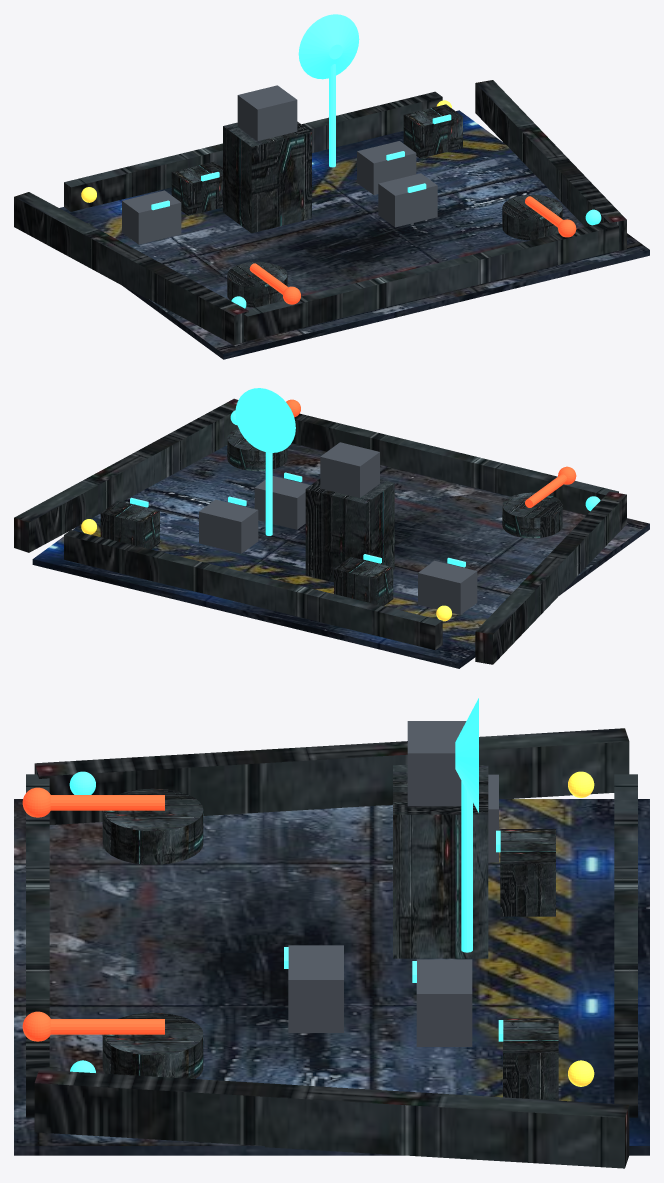
Rendered from arena_battle_deck_cluster.glb.
The picture shows the model from 3 angles, top to bottom: view 1: azimuth 30°, elevation 25°; view 2: azimuth 150°, elevation 25°; view 3: azimuth 270°, elevation 25°; orthographic projection. The views are drawn at different scales.
Visible parts, largest first — view 1: DeckClusterBase_PhotoDeck, ForwardServiceRail_Textured, LeftArmoredEdge_Textured, ServiceTowerLower_Textured, RearServiceRail_Textured, RightArmoredEdge_Textured, RadarDish_Cyan, ServiceTowerUpper_Textured, EquipmentPod_Textured_00, EquipmentPod_Textured_04, EquipmentPod_Textured_03, EquipmentPod_Textured_01 (+4 smaller); view 2: DeckClusterBase_PhotoDeck, RearServiceRail_Textured, RightArmoredEdge_Textured, ForwardServiceRail_Textured, LeftArmoredEdge_Textured, ServiceTowerLower_Textured, RadarDish_Cyan, ServiceTowerUpper_Textured, EquipmentPod_Textured_02, EquipmentPod_Textured_00, EquipmentPod_Textured_01, AATurretBase_Textured_00 (+5 smaller); view 3: DeckClusterBase_PhotoDeck, RightArmoredEdge_Textured, LeftArmoredEdge_Textured, ServiceTowerLower_Textured, RearServiceRail_Textured, ForwardServiceRail_Textured, AATurretBase_Textured_00, AATurretBase_Textured_01, EquipmentPod_Textured_02, EquipmentPod_Textured_01, EquipmentPod_Textured_04, EquipmentPod_Textured_03 (+8 smaller).
Boxes of the visible parts, x1,y1,x2,y2 form: DeckClusterBase_PhotoDeck: [59, 110, 649, 359]; ForwardServiceRail_Textured: [244, 222, 618, 340]; LeftArmoredEdge_Textured: [14, 192, 248, 345]; ServiceTowerLower_Textured: [223, 121, 311, 233]; RearServiceRail_Textured: [64, 91, 442, 211]; RightArmoredEdge_Textured: [475, 80, 626, 251]; RadarDish_Cyan: [298, 14, 359, 79]; ServiceTowerUpper_Textured: [237, 85, 297, 141]; EquipmentPod_Textured_00: [122, 190, 181, 244]; EquipmentPod_Textured_04: [378, 173, 437, 227]; EquipmentPod_Textured_03: [403, 104, 462, 158]; EquipmentPod_Textured_01: [171, 161, 222, 215]; DeckClusterBase_PhotoDeck: [32, 443, 649, 668]; RearServiceRail_Textured: [64, 530, 442, 650]; RightArmoredEdge_Textured: [14, 398, 238, 552]; ForwardServiceRail_Textured: [292, 413, 618, 514]; LeftArmoredEdge_Textured: [475, 491, 626, 664]; ServiceTowerLower_Textured: [305, 478, 394, 582]; RadarDish_Cyan: [235, 388, 295, 452]; ServiceTowerUpper_Textured: [320, 442, 379, 497]; EquipmentPod_Textured_02: [199, 499, 258, 553]; EquipmentPod_Textured_00: [418, 560, 477, 614]; EquipmentPod_Textured_01: [334, 557, 393, 605]; AATurretBase_Textured_00: [502, 492, 562, 538]; DeckClusterBase_PhotoDeck: [14, 799, 649, 1155]; RightArmoredEdge_Textured: [34, 1070, 629, 1168]; LeftArmoredEdge_Textured: [34, 728, 629, 824]; ServiceTowerLower_Textured: [393, 765, 488, 958]; RearServiceRail_Textured: [614, 774, 637, 1117]; ForwardServiceRail_Textured: [26, 774, 49, 1117]; AATurretBase_Textured_00: [102, 788, 203, 864]; AATurretBase_Textured_01: [102, 1012, 203, 1078]; EquipmentPod_Textured_02: [416, 959, 472, 1046]; EquipmentPod_Textured_01: [500, 829, 555, 916]; EquipmentPod_Textured_04: [288, 945, 343, 1032]; EquipmentPod_Textured_03: [503, 1018, 558, 1100].
Size of the model in its own units: 6.96 by 2.54 by 4.8.
6 materials, 2 textured.
